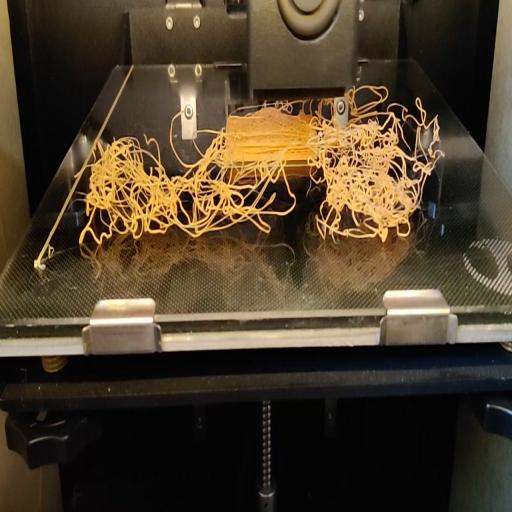spaghetti: (75, 95, 443, 268)
